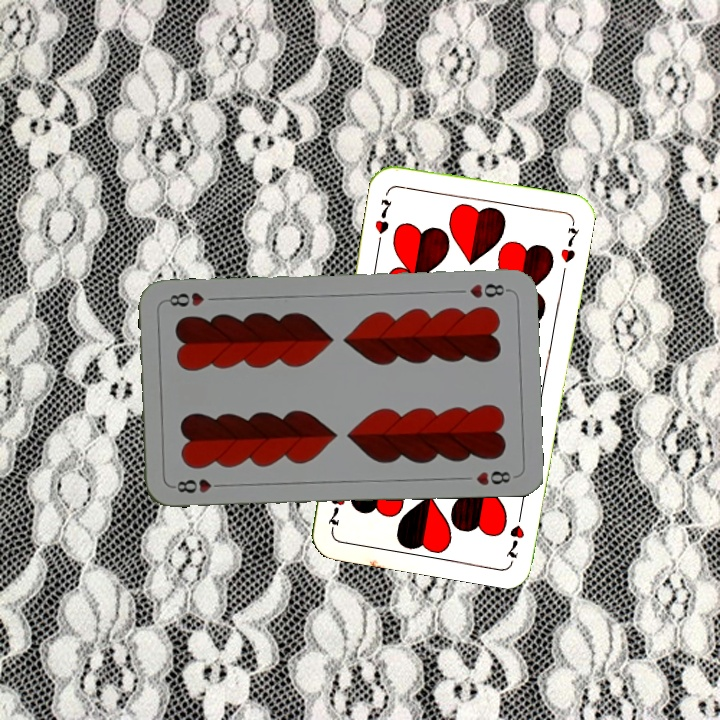H7: (502, 504, 527, 561), (370, 195, 395, 237)
H8: (169, 475, 228, 496), (465, 280, 512, 301)
